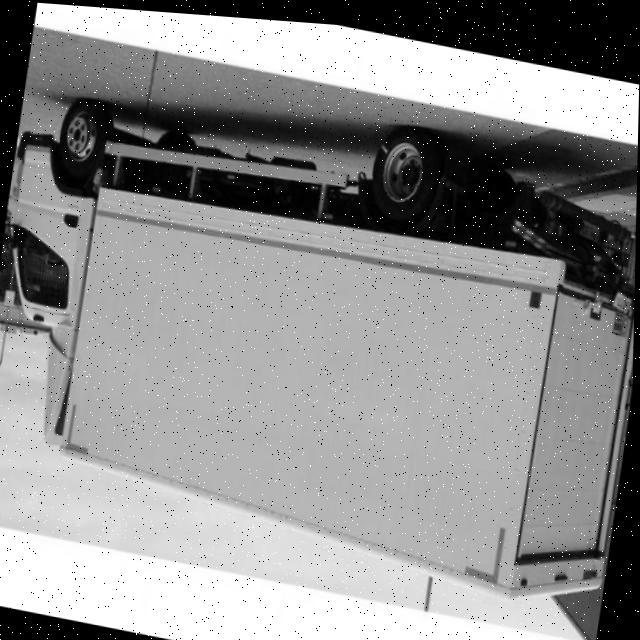truck: (1, 58, 640, 611)
